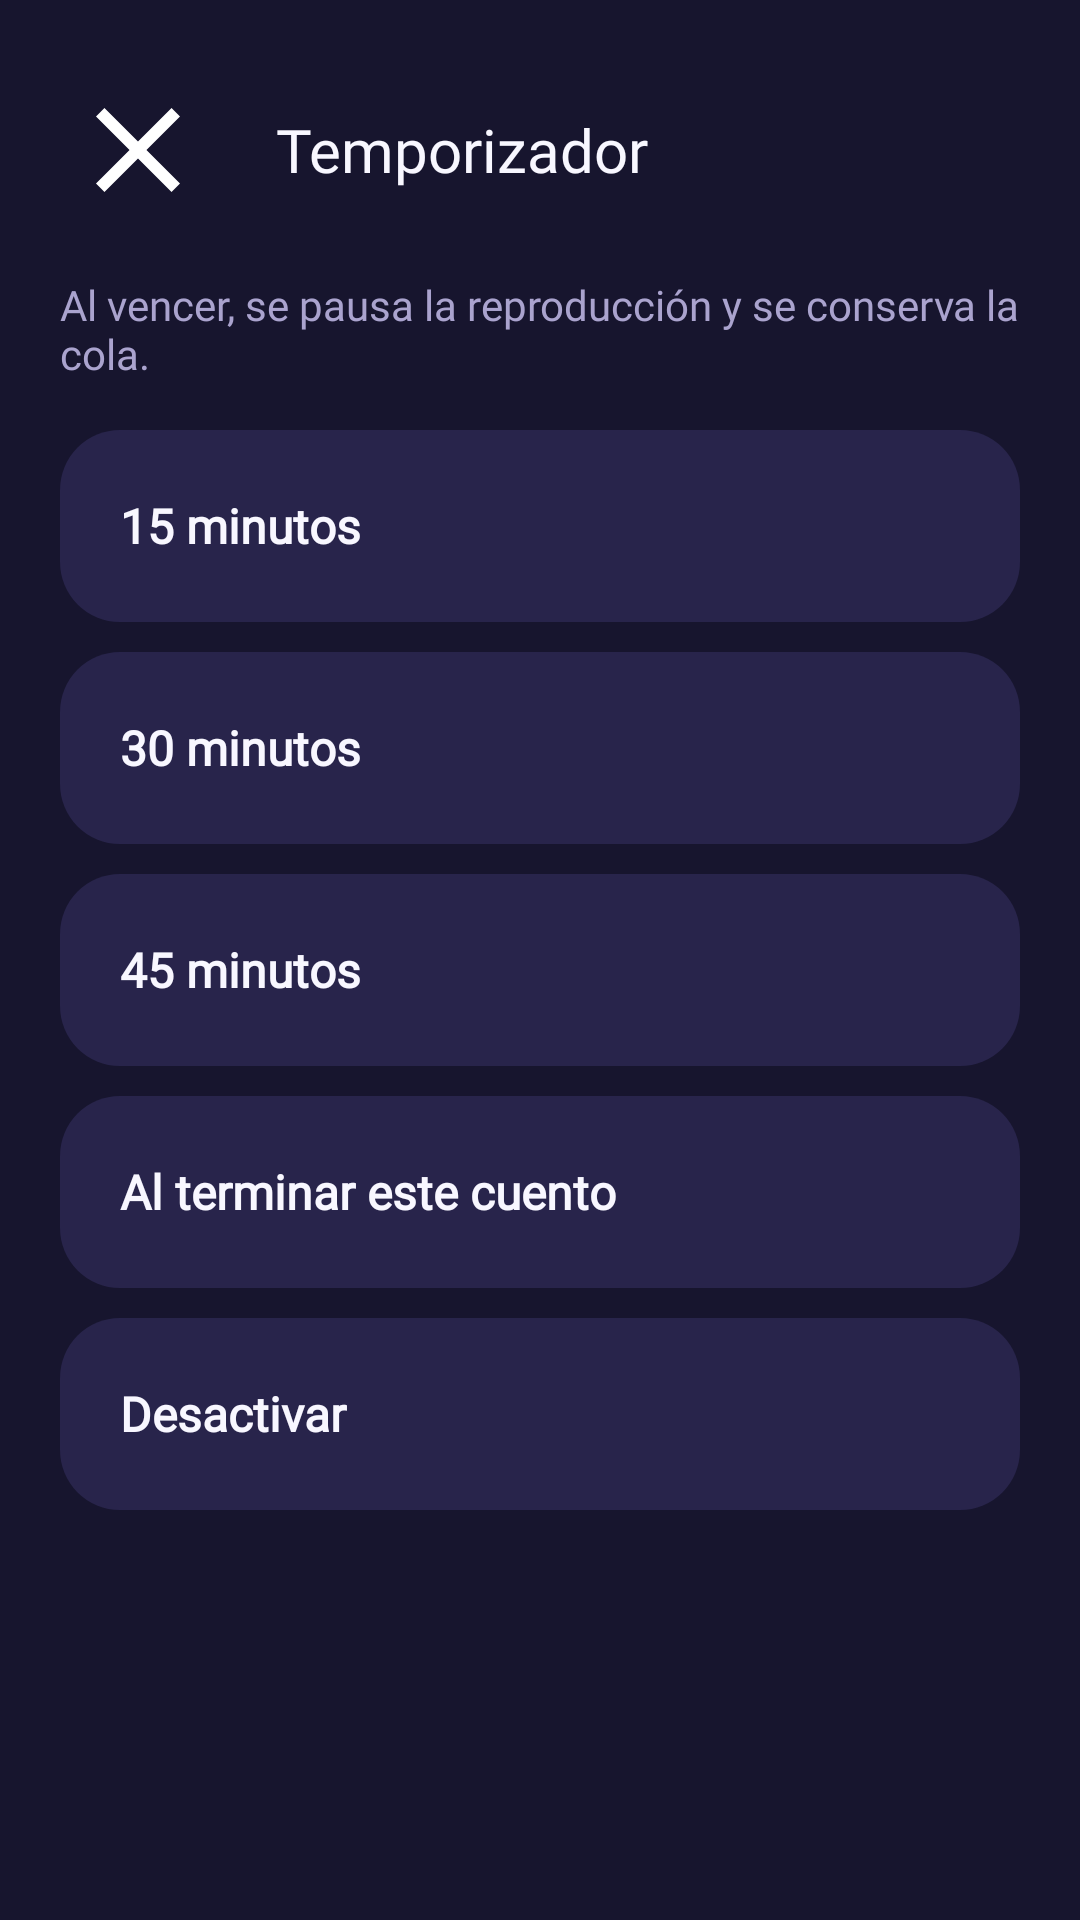

Point at icon controls on the screen. Image size 1080px×1920px, points as point (x, y).
Cerrar: point (138, 150)
